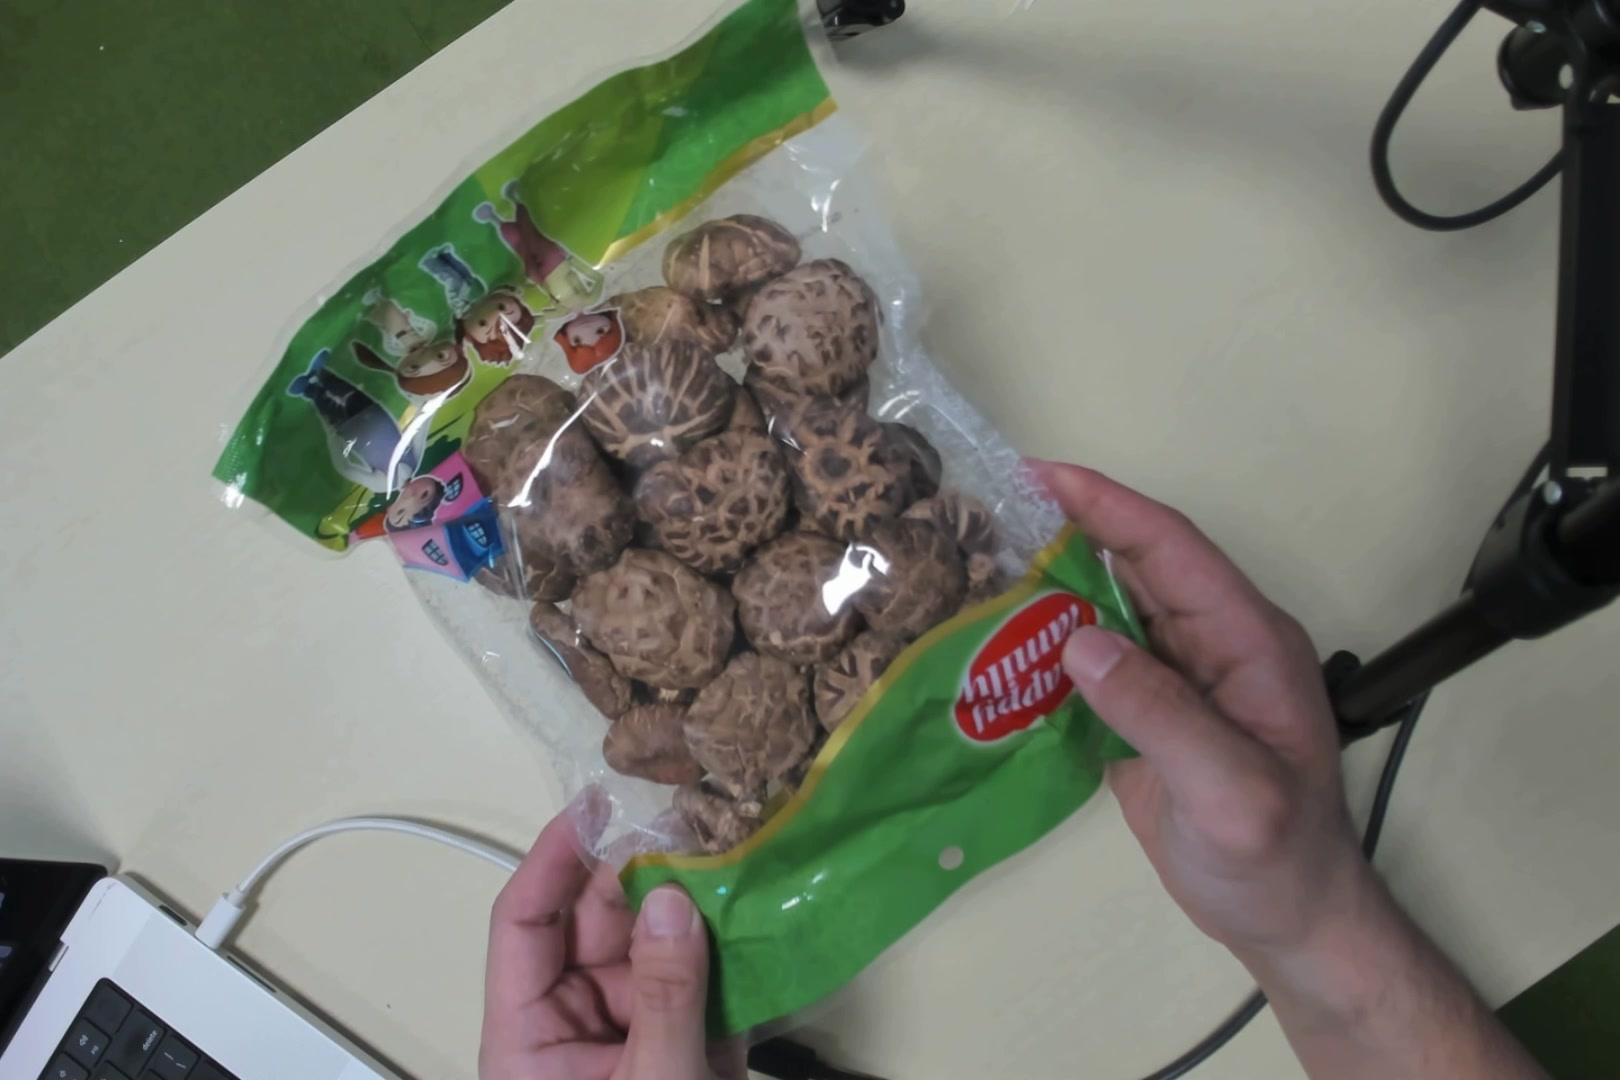OtherDriedFood_100-199g_NonHalal_NonHealthy: (395, 83, 1113, 965)
